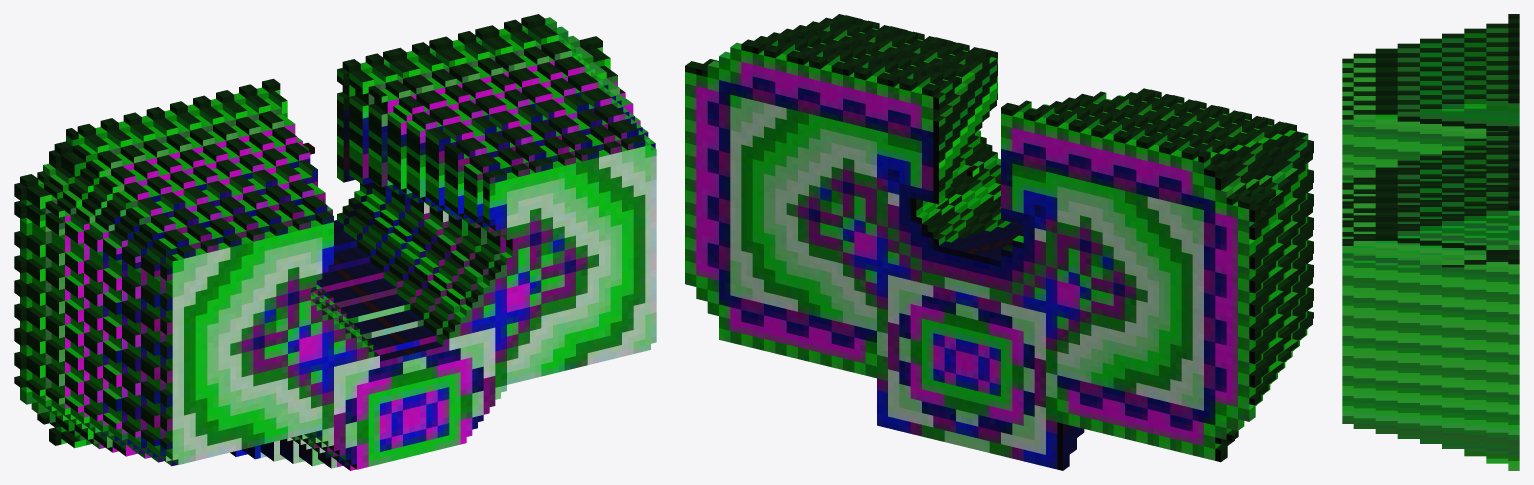
Rendered from dreamlingP16.obj.
3 views of the same model, side by side, from view 1: azimuth 30°, elevation 25°; view 2: azimuth 150°, elevation 25°; view 3: azimuth 270°, elevation 25° (orthographic). The views are drawn at different scales.
Size of the model in its own units: 101 by 59 by 32.
